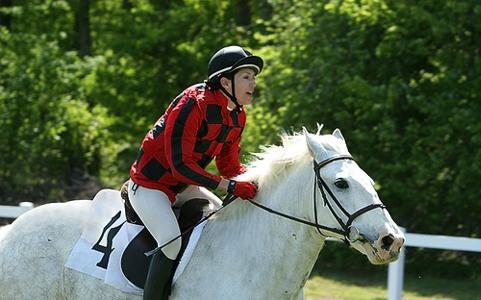person: (129, 47, 260, 299)
